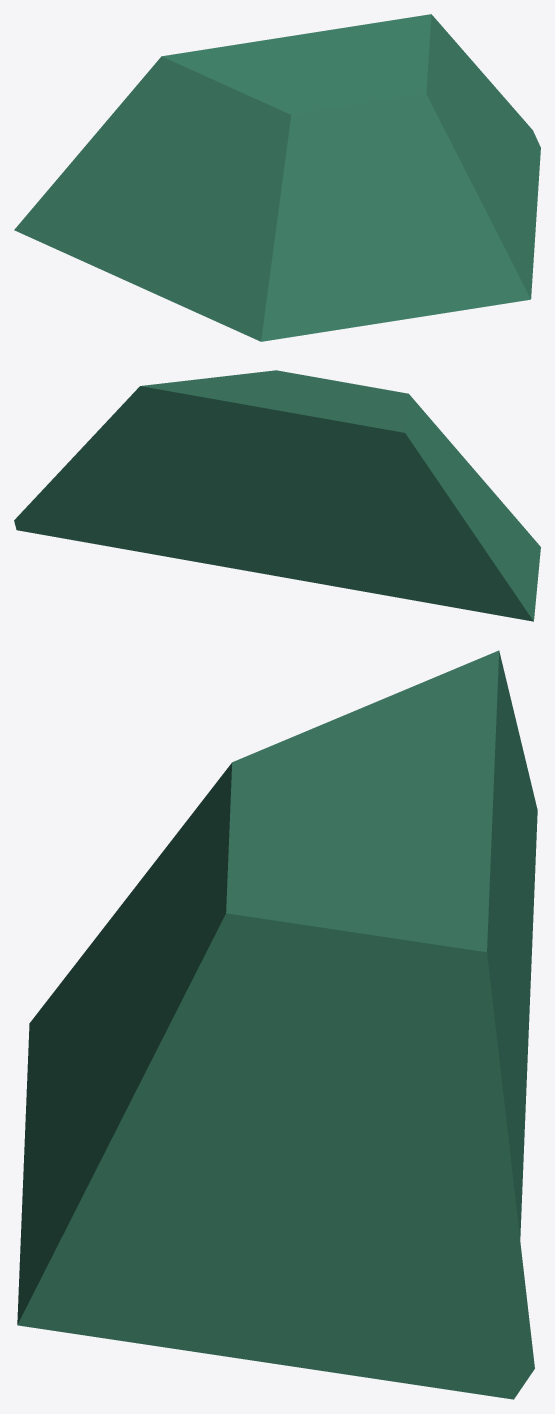
The model's file is choppedBroccoli.obj.
The picture shows the model from 3 angles, top to bottom: view 1: azimuth 30°, elevation 25°; view 2: azimuth 150°, elevation 25°; view 3: azimuth 270°, elevation 25°; orthographic projection. The views are drawn at different scales.
Visible parts, largest first — view 1: broccoli.002; view 2: broccoli.002; view 3: broccoli.002.
Boxes of the visible parts, bbox=[...] form: broccoli.002: bbox=[14, 14, 540, 341]; broccoli.002: bbox=[14, 370, 540, 621]; broccoli.002: bbox=[17, 650, 537, 1399].
Bounding box in the file's own units: 0.1179 × 0.0467 × 0.051.
